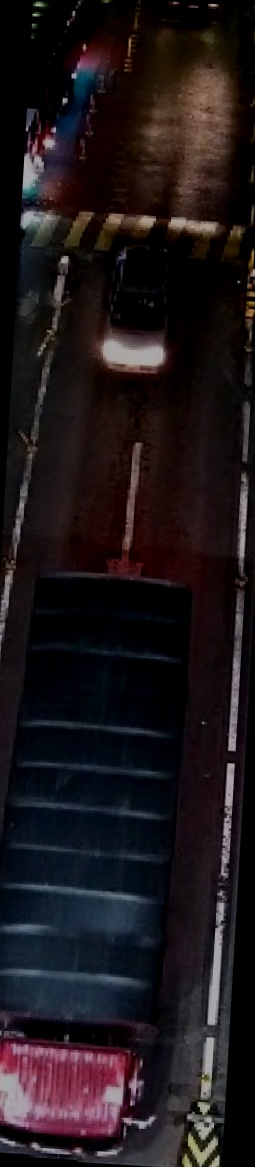car: (82, 227, 198, 397)
truck: (0, 556, 205, 1163), (23, 0, 99, 197)
